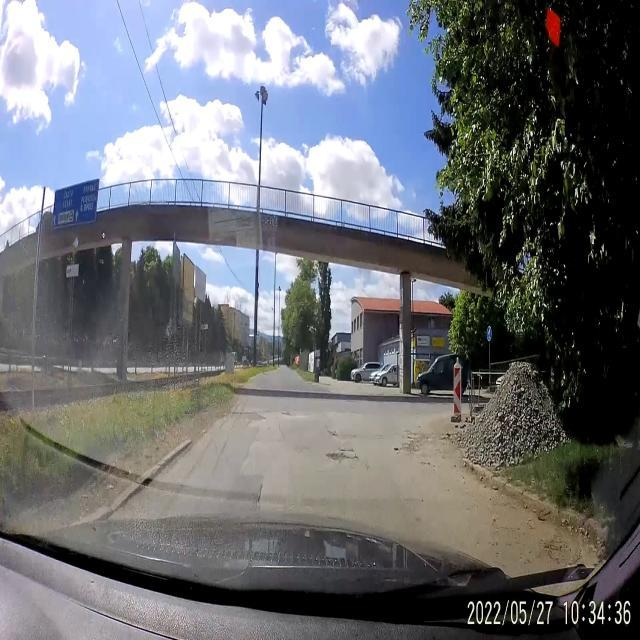Pothole: (327, 447, 359, 469), (388, 440, 422, 457), (230, 412, 266, 424), (255, 476, 263, 514), (326, 426, 340, 442), (282, 408, 294, 423)
